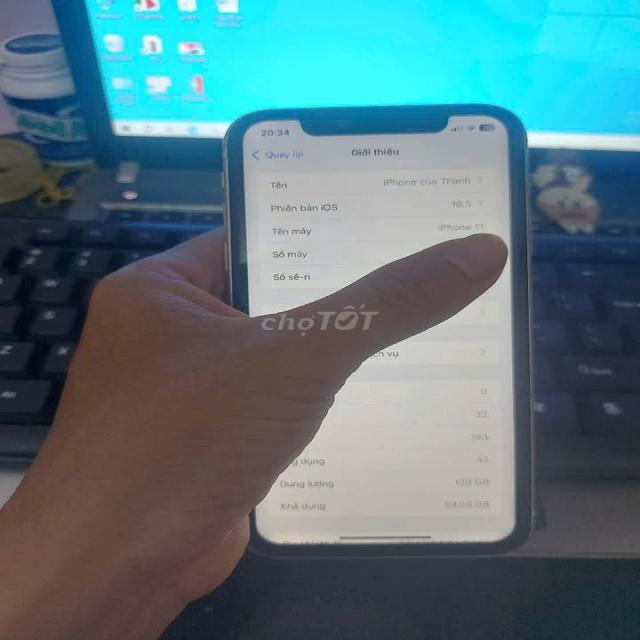gen_11: (222, 97, 538, 551)
